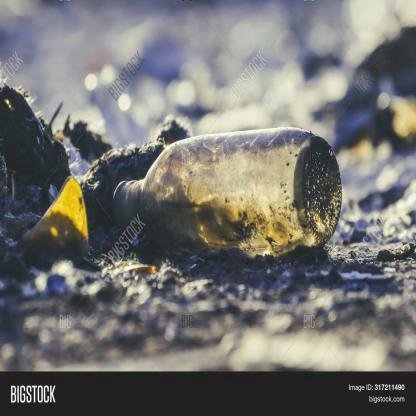Glass: (109, 124, 343, 253)
